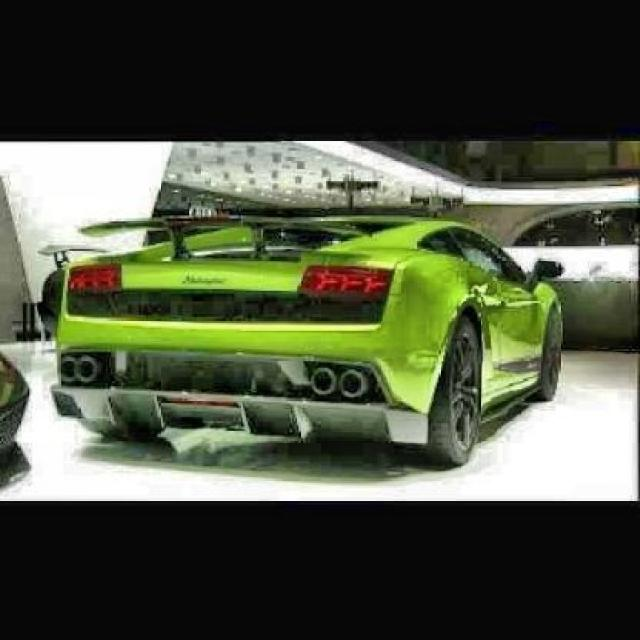green: (51, 214, 561, 466)
